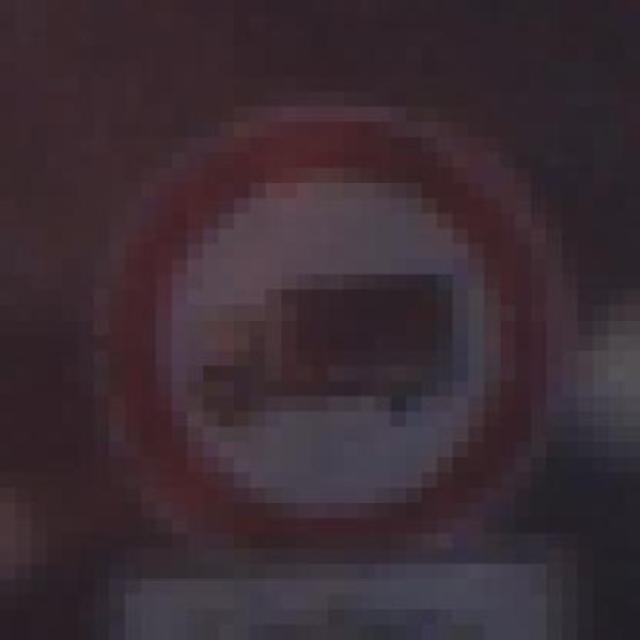Truck traffic is prohibited: (78, 76, 562, 549)
